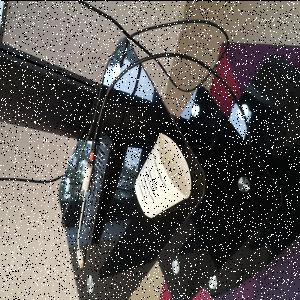Cup: (135, 133, 193, 219)
